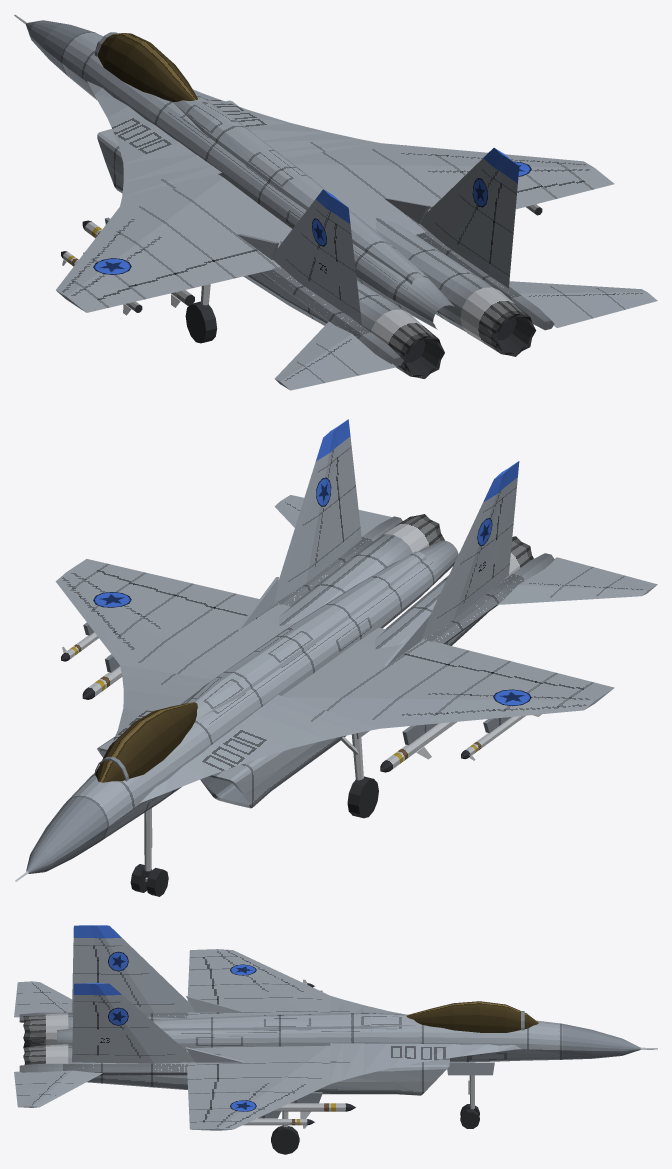
Rendered from mig29.glb.
3 renders of one model, top to bottom at view 1: azimuth 30°, elevation 25°; view 2: azimuth 150°, elevation 25°; view 3: azimuth 270°, elevation 25°, orthographic. The views are drawn at different scales.
Parts seen in each view (by area): view 1: airframe, stab_l, canopy, stab_r, flap_l, rudder_r, aileron_l, rudder_l, gear_main_l, aileron_r; view 2: airframe, canopy, stab_l, flap_l, gear_main_l, rudder_r, gear_nose, flap_r, aileron_l, aileron_r, rudder_l, stab_r (+1 smaller); view 3: airframe, canopy, stab_r, stab_l, rudder_r, rudder_l, flap_r, gear_main_r, msl_3, aileron_l, aileron_r, door_nose (+3 smaller).
Part boxes in pixels (x1,y1,x2,y2): airframe: (14, 14, 614, 378); stab_l: (274, 321, 396, 390); canopy: (94, 32, 197, 102); stab_r: (509, 281, 657, 327); flap_l: (175, 249, 277, 287); rudder_r: (489, 182, 516, 275); aileron_l: (98, 272, 193, 307); rudder_l: (335, 223, 360, 312); gear_main_l: (185, 284, 217, 343); aileron_r: (515, 180, 592, 209); airframe: (15, 419, 614, 881); canopy: (94, 702, 197, 782); stab_l: (497, 557, 657, 604); flap_l: (404, 640, 509, 673); gear_main_l: (341, 733, 378, 818); rudder_r: (336, 446, 360, 540); gear_nose: (130, 808, 168, 896); flap_r: (175, 584, 277, 616); aileron_l: (491, 661, 592, 689); aileron_r: (98, 564, 193, 596); rudder_l: (492, 487, 516, 577); stab_r: (274, 495, 392, 536); airframe: (19, 925, 657, 1130); canopy: (406, 1001, 538, 1032); stab_r: (14, 1070, 102, 1107); stab_l: (14, 981, 72, 1017); rudder_r: (72, 1001, 98, 1054); rudder_l: (72, 945, 97, 1003); flap_r: (187, 1064, 219, 1093); gear_main_r: (271, 1111, 299, 1154); msl_3: (277, 1103, 355, 1118); aileron_l: (188, 957, 214, 985); aileron_r: (188, 1092, 214, 1121); door_nose: (447, 1062, 494, 1075).
Size of the model in its own units: 11.36 by 5.04 by 17.21.
Materials: 6 (6 with a texture image).
